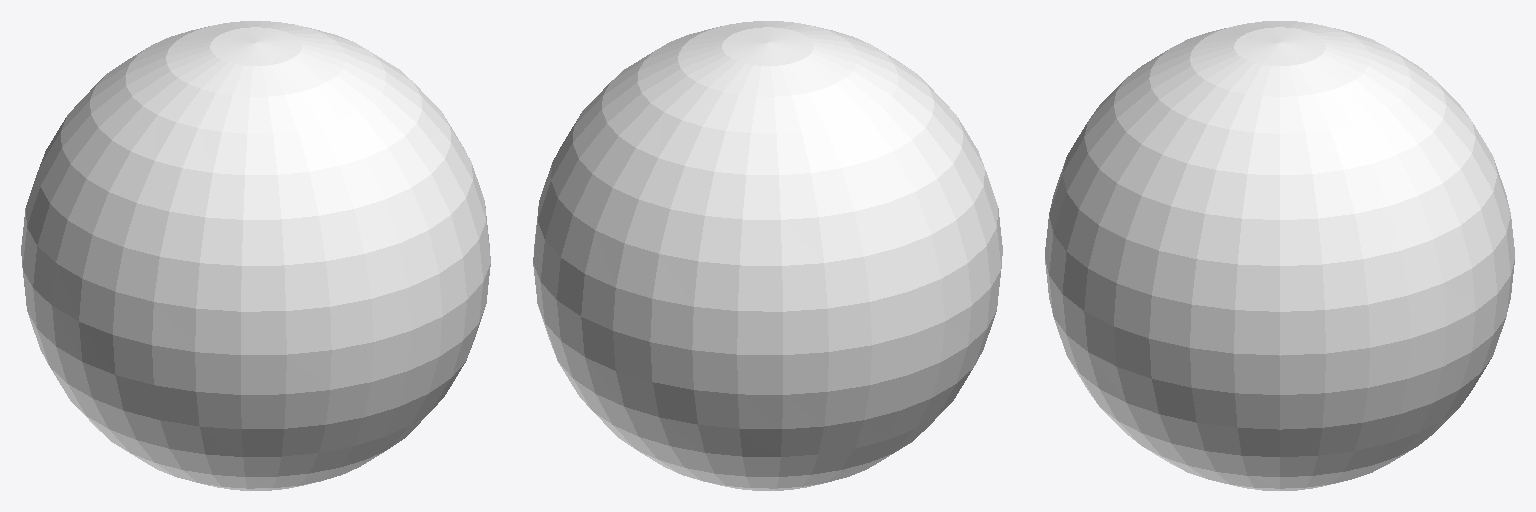
3 views of the same model, side by side, from view 1: azimuth 30°, elevation 25°; view 2: azimuth 150°, elevation 25°; view 3: azimuth 270°, elevation 25° (orthographic).
Visible parts, largest first — view 1: Sphere002; view 2: Sphere002; view 3: Sphere002.
Boxes of the visible parts, x1,y1,x2,y2 form: Sphere002: [21, 21, 490, 490]; Sphere002: [533, 21, 1002, 490]; Sphere002: [1045, 21, 1514, 490].
Size of the model in its own units: 0.9844 by 0.9844 by 0.9844.
Materials: 1 (1 with a texture image).